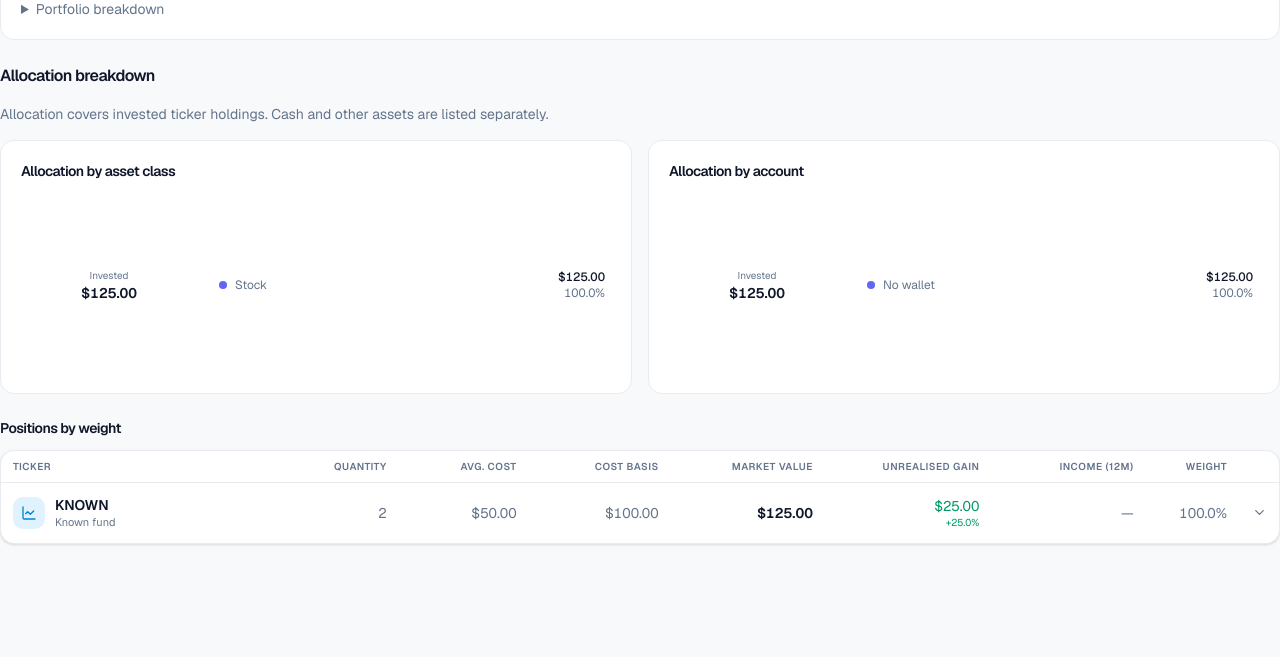
shows nullable transferred lot dates and costs beside a supported zero in the holding currency without fabricating gains
The image size is (1280, 657).
Click the button "KNOWN".
click(640, 513)  # box 1,483 -> 1279,543
(page scrolled)
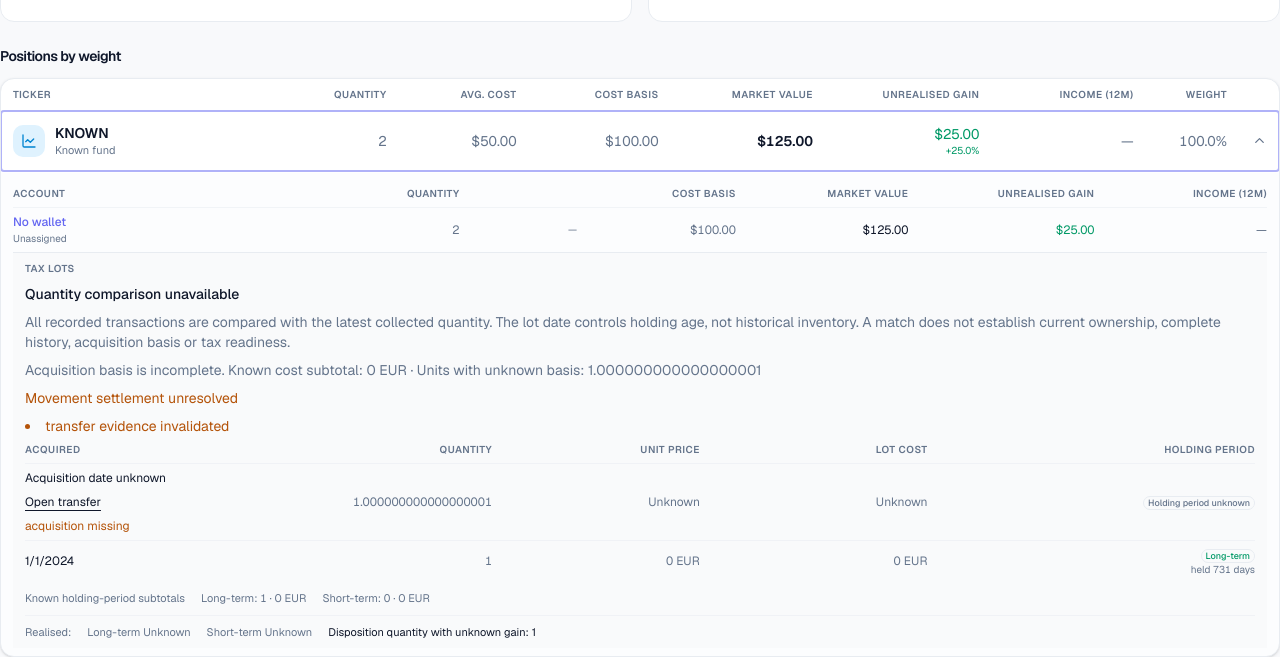
Expected: the text "Holding period unknown" is shown, 1143,496 -> 1255,510
Expected: the text "Unknown" is shown 2 times, 648,494 -> 700,510; 876,494 -> 928,510
Expected: the text "1.000000000000000001" is shown, 353,494 -> 492,510
